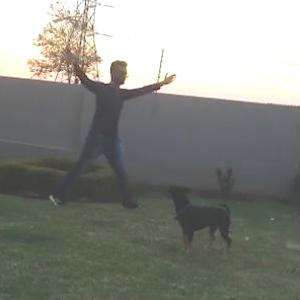takeoff: (57, 48, 178, 204)
